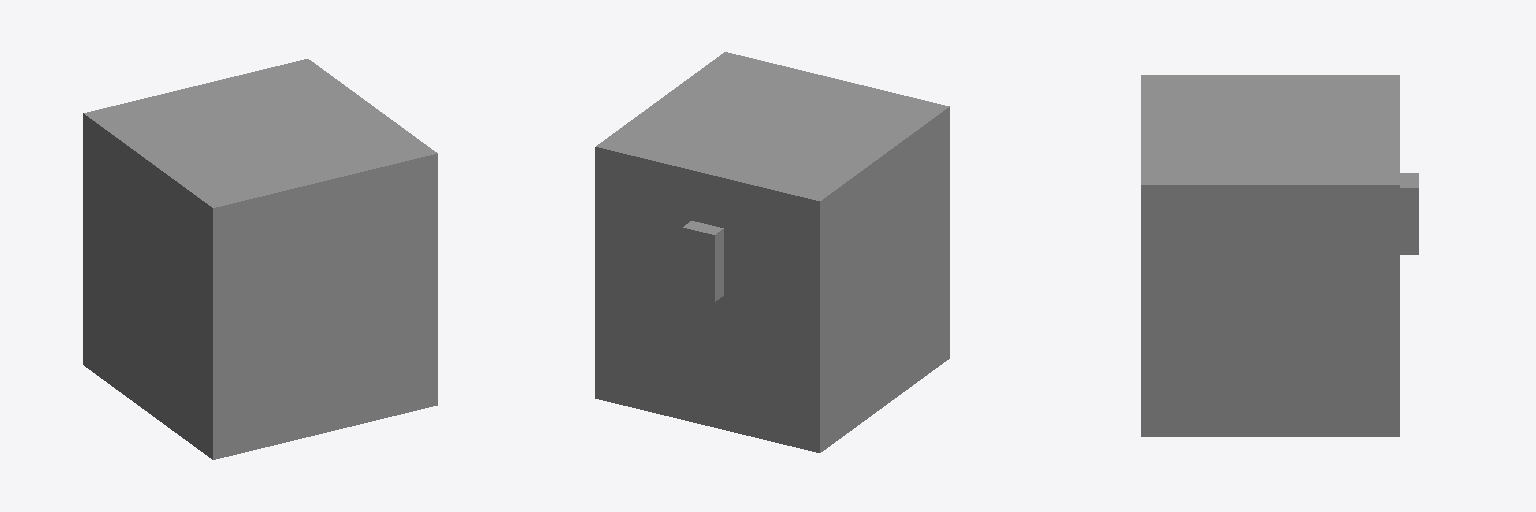
Rendered from chest_item.obj.
The picture shows the model from 3 angles: view 1: azimuth 30°, elevation 25°; view 2: azimuth 150°, elevation 25°; view 3: azimuth 270°, elevation 25°; orthographic projection.
Parts seen in each view (by area): view 1: chest.item; view 2: chest.item; view 3: chest.item.
Part boxes in pixels (left/top/right/bottom): chest.item: left=83, top=59, right=437, bottom=459; chest.item: left=595, top=52, right=949, bottom=452; chest.item: left=1141, top=75, right=1418, bottom=436.
Size of the model in its own units: 0.875 by 0.9375 by 0.9375.